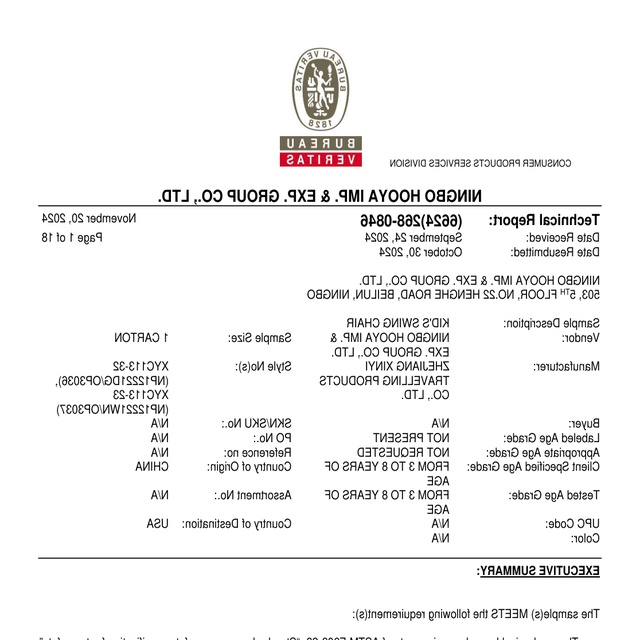bureau_veritas: (278, 47, 365, 169)
